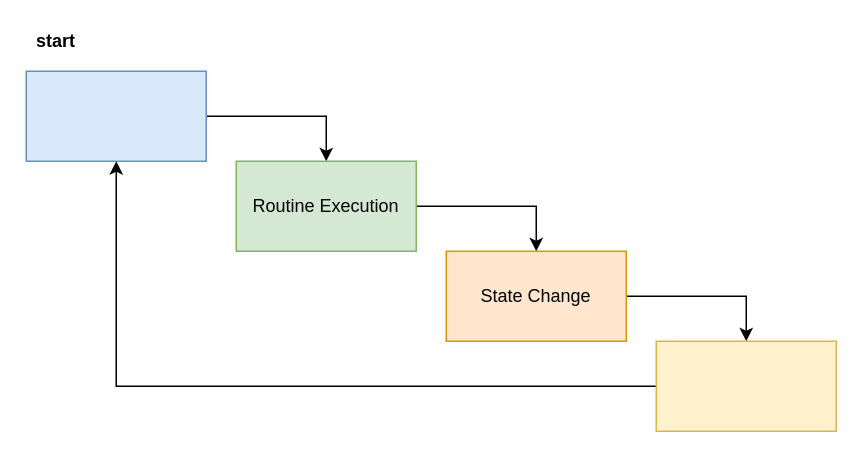
Some shapes in this 863 by 458 pixel diagram are drawn without their labels. The centre of each missing label's shape, as x and y in pixels:
"Sleep" belongs at [745,385].
"State Selection" belongs at [115,115].
